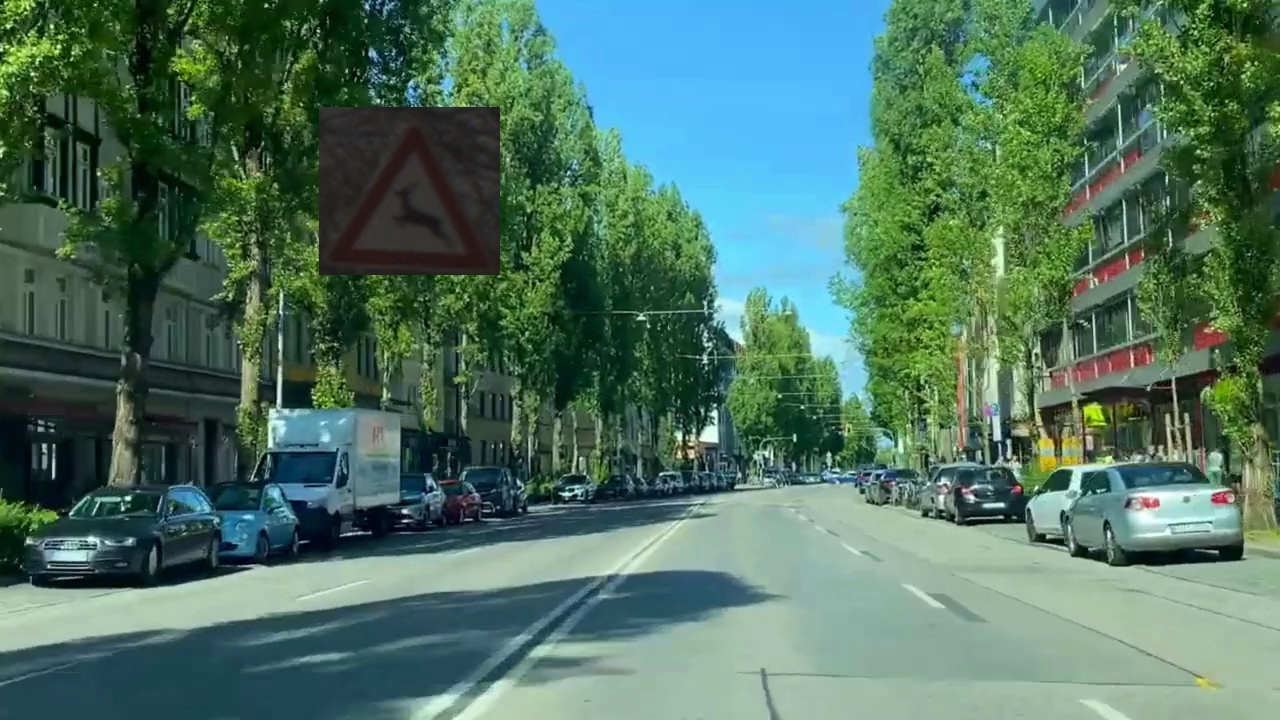Wild animals: (319, 107, 500, 275)
